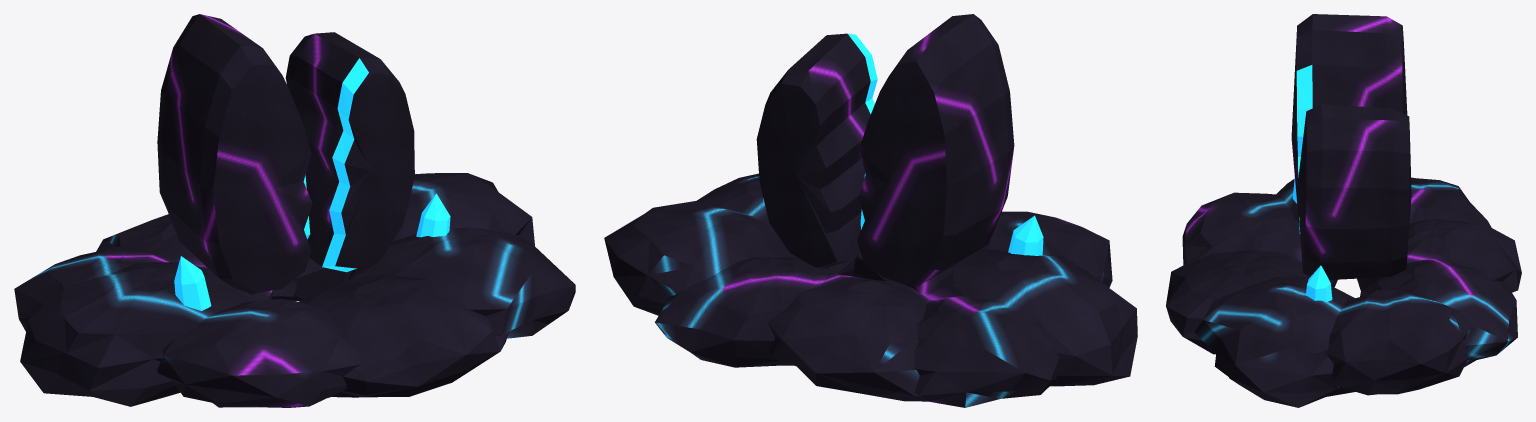
File: Anomalous_Deposit_A.fbx
3 renders of one model, left to right at view 1: azimuth 30°, elevation 25°; view 2: azimuth 150°, elevation 25°; view 3: azimuth 270°, elevation 25°, orthographic. The views are drawn at different scales.
Parts seen in each view (by area): view 1: Anomalous_Deposit_A_LOD0; view 2: Anomalous_Deposit_A_LOD0; view 3: Anomalous_Deposit_A_LOD0.
Boxes of the visible parts, <box> form: Anomalous_Deposit_A_LOD0: <box>14,14,575,407</box>; Anomalous_Deposit_A_LOD0: <box>604,14,1137,407</box>; Anomalous_Deposit_A_LOD0: <box>1166,14,1521,407</box>.
Size of the model in its own units: 3.57 by 2.21 by 2.63.
